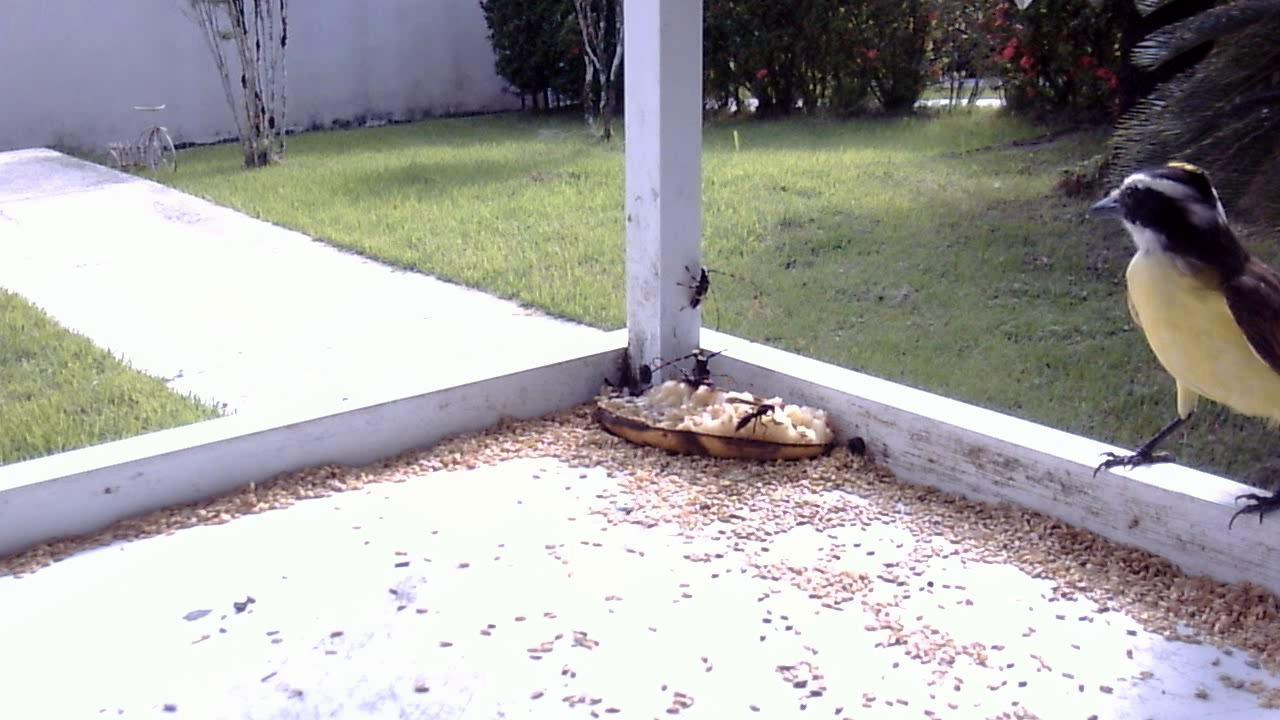bem_te_vi: (1078, 146, 1275, 537)
